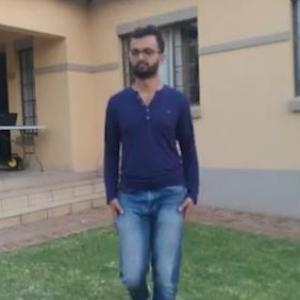follow: (103, 34, 192, 299)
